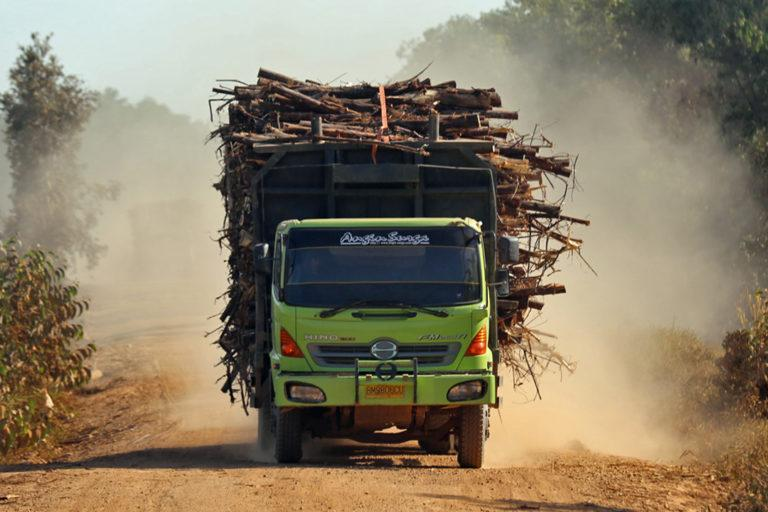truck: (255, 159, 497, 467)
